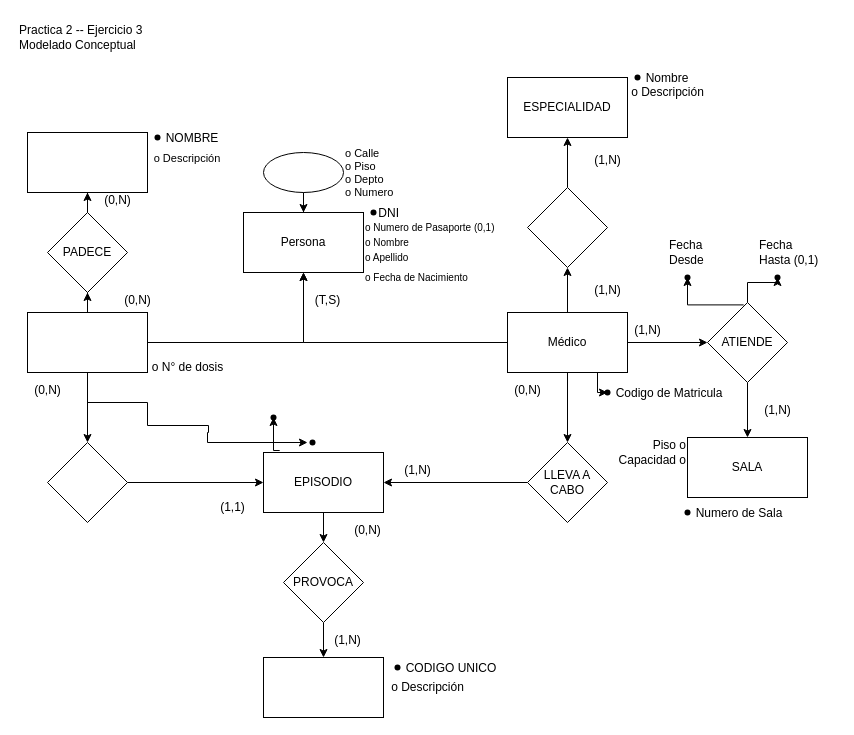
Image size: 854x735. Some labels were removed from this diagram. The shapes that lost their labels are listed below. From the top down, each one's centre as x and y in pixels, then its label:
[87,162]: ENFERMEDAD
[303,172]: Direccion
[567,227]: POSEE
[87,342]: Paciente
[273,417]: N° UNICO de EPISODIO
[87,482]: SUFRE
[323,687]: SINTOMA
